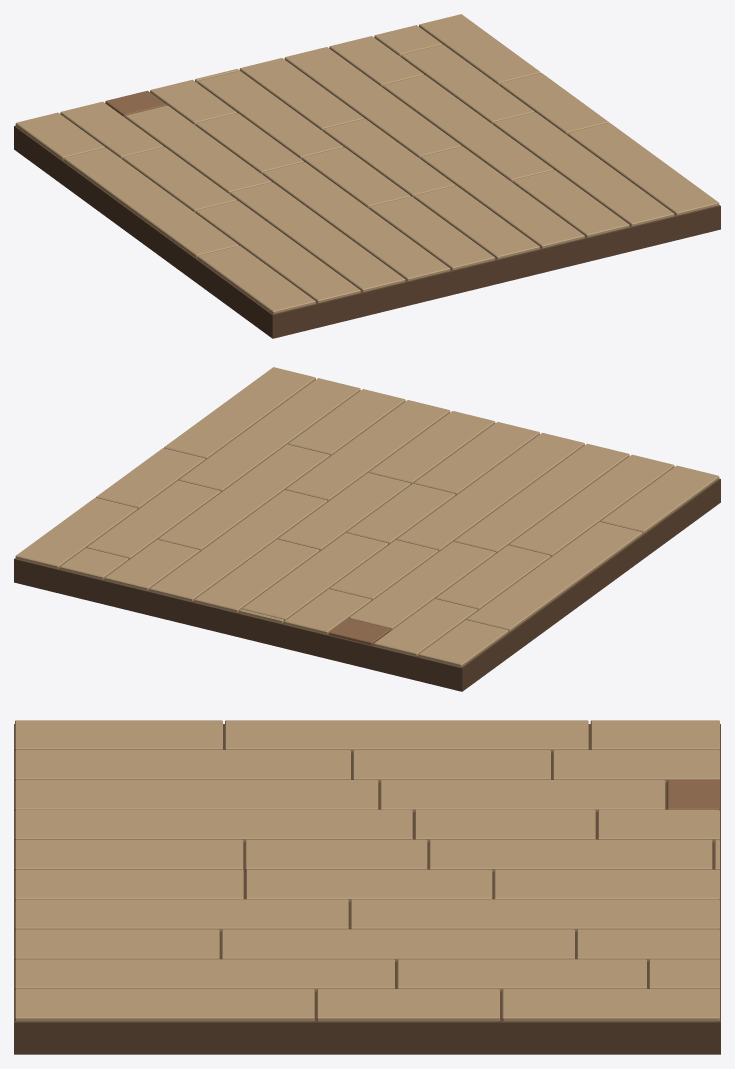
The model's file is floor_hm_wood.glb.
3 renders of one model, top to bottom at view 1: azimuth 30°, elevation 25°; view 2: azimuth 150°, elevation 25°; view 3: azimuth 270°, elevation 25°, orthographic. The views are drawn at different scales.
Parts seen in each view (by area): view 1: floor_hm_wood; view 2: floor_hm_wood; view 3: floor_hm_wood.
Part boxes in pixels (x1=…): floor_hm_wood: x1=14, y1=14, x2=720, y2=338; floor_hm_wood: x1=14, y1=367, x2=720, y2=691; floor_hm_wood: x1=14, y1=720, x2=720, y2=1054.
Size of the model in its own units: 4 by 0.23 by 4.
